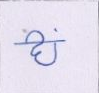anusvara: (54, 28, 58, 32)
